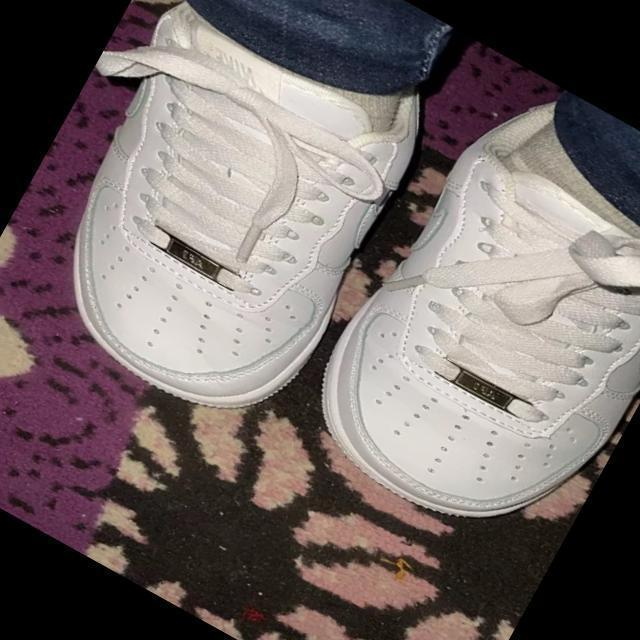nike fake air force: (0, 0, 465, 455), (281, 62, 640, 577)
